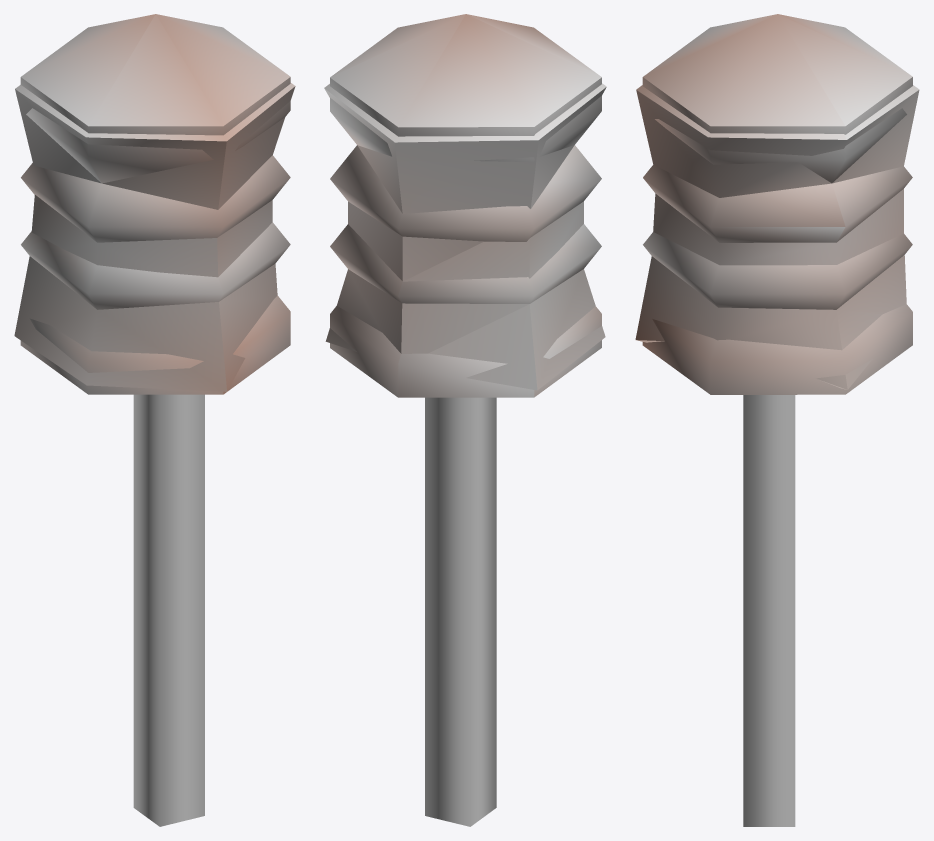
Rendered from electrical_coil.dae.
3 views of the same model, side by side, from view 1: azimuth 30°, elevation 25°; view 2: azimuth 150°, elevation 25°; view 3: azimuth 270°, elevation 25° (orthographic).
Parts seen in each view (by area): view 1: electrical_coil_a050, electrical_coil_a020; view 2: electrical_coil_a050, electrical_coil_a020; view 3: electrical_coil_a050, electrical_coil_a020.
Part boxes in pixels (<box>): electrical_coil_a050: <box>20,14,290,826</box>; electrical_coil_a020: <box>14,83,295,391</box>; electrical_coil_a050: <box>330,14,601,826</box>; electrical_coil_a020: <box>324,83,606,390</box>; electrical_coil_a050: <box>642,14,912,826</box>; electrical_coil_a020: <box>635,85,919,389</box>.
Size of the model in its own units: 0.1079 by 0.1247 by 0.3862.
